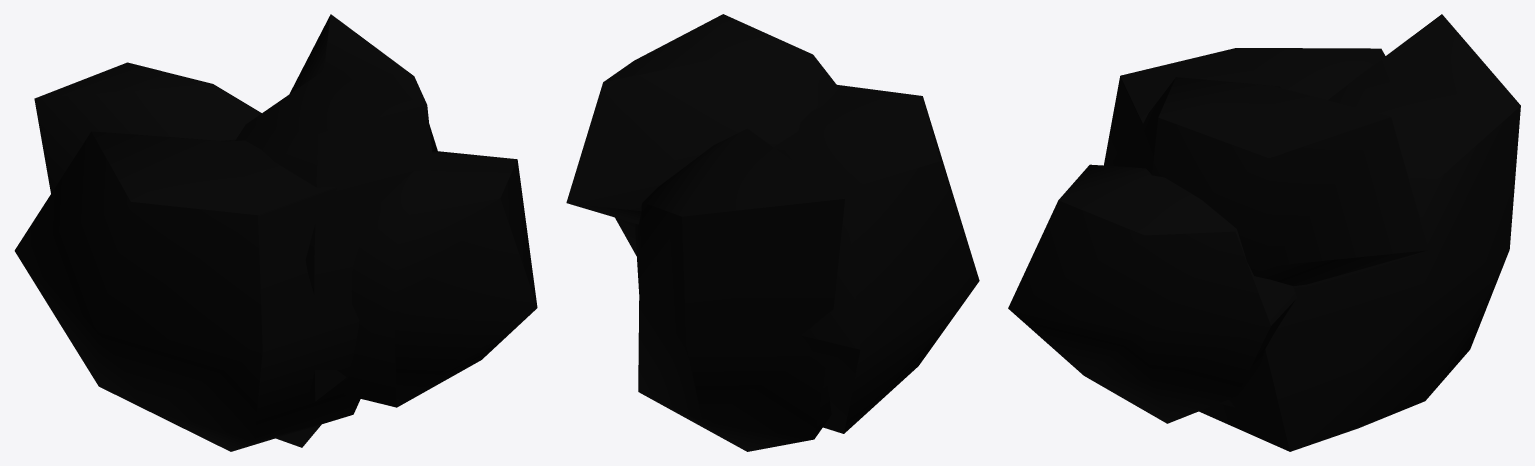
File: SM_bush_berry.fbx
3 views of the same model, side by side, from view 1: azimuth 30°, elevation 25°; view 2: azimuth 150°, elevation 25°; view 3: azimuth 270°, elevation 25° (orthographic). The views are drawn at different scales.
Parts seen in each view (by area): view 1: bush_berry; view 2: bush_berry; view 3: bush_berry.
Part boxes in pixels (left/top/right/bottom): bush_berry: left=14, top=14, right=537, bottom=451; bush_berry: left=566, top=14, right=979, bottom=451; bush_berry: left=1008, top=14, right=1520, bottom=451.
Bounding box in the file's own units: 1.15 × 1.04 × 1.27.
